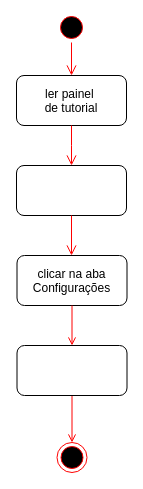
The diagram is 143 pixels wide and 489 high, and some of its shapes have lost their labels. The box of each missing label's shape, as (x1, y1, x2, y2) in pixels:
clicar no botão referente a Troca de Tema: (16, 344, 127, 396)
pular tutorial: (16, 164, 126, 216)
